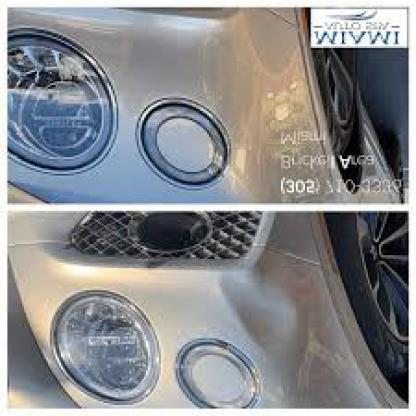dent: (214, 273, 304, 339)
